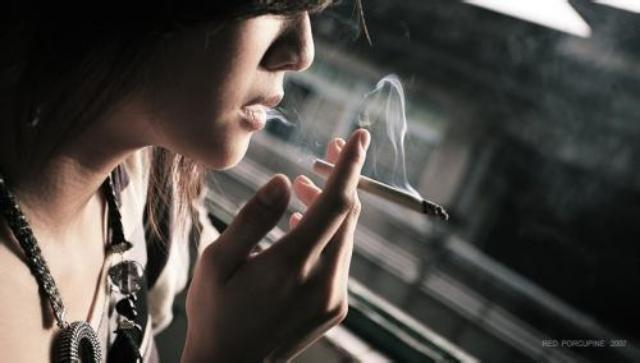Cigarette: (308, 156, 452, 226)
